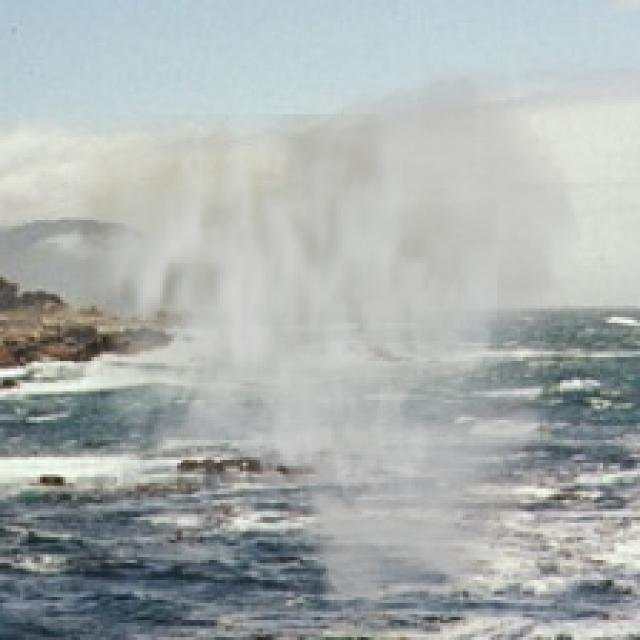Smoke: (66, 60, 583, 626)
